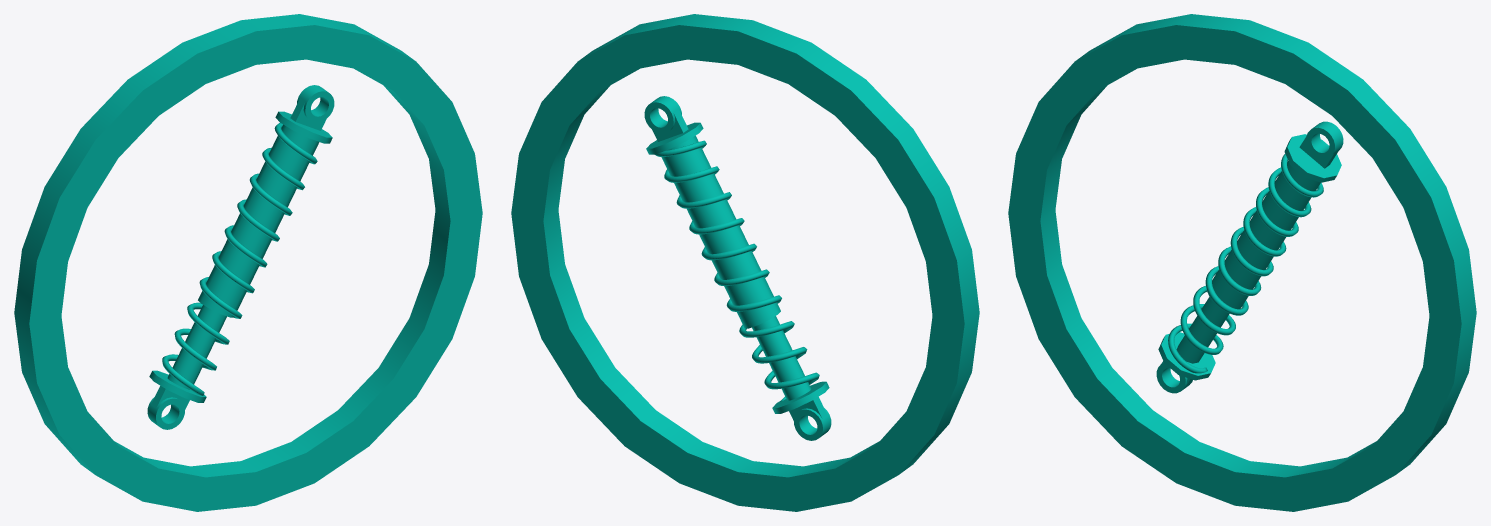
The model's file is Jump.fbx.
The picture shows the model from 3 angles, left to right: view 1: azimuth 30°, elevation 25°; view 2: azimuth 150°, elevation 25°; view 3: azimuth 330°, elevation 25°; orthographic projection.
Parts seen in each view (by area): view 1: JUMP; view 2: JUMP; view 3: JUMP.
Boxes of the visible parts, x1,y1,x2,y2 form: JUMP: (14, 14, 482, 511); JUMP: (511, 14, 979, 511); JUMP: (1008, 14, 1476, 511).
Size of the model in its own units: 39.42 by 39.42 by 4.43.
